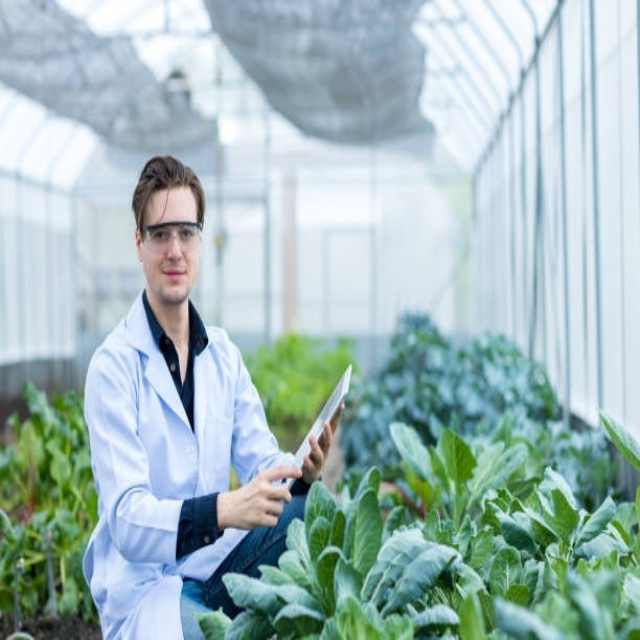Gafas: (143, 222, 203, 249)
Sin_guantes: (227, 464, 302, 532), (299, 400, 346, 487)
Sin_mascara: (156, 260, 190, 298)
